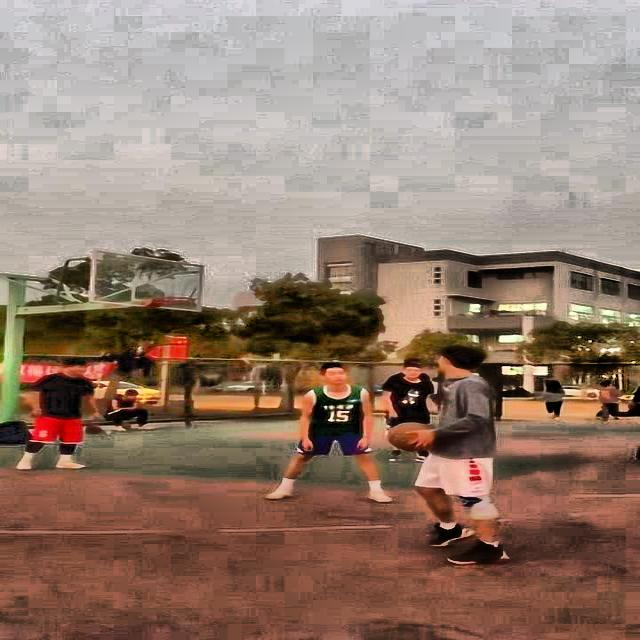board: (385, 422, 434, 452), (84, 424, 102, 434)
